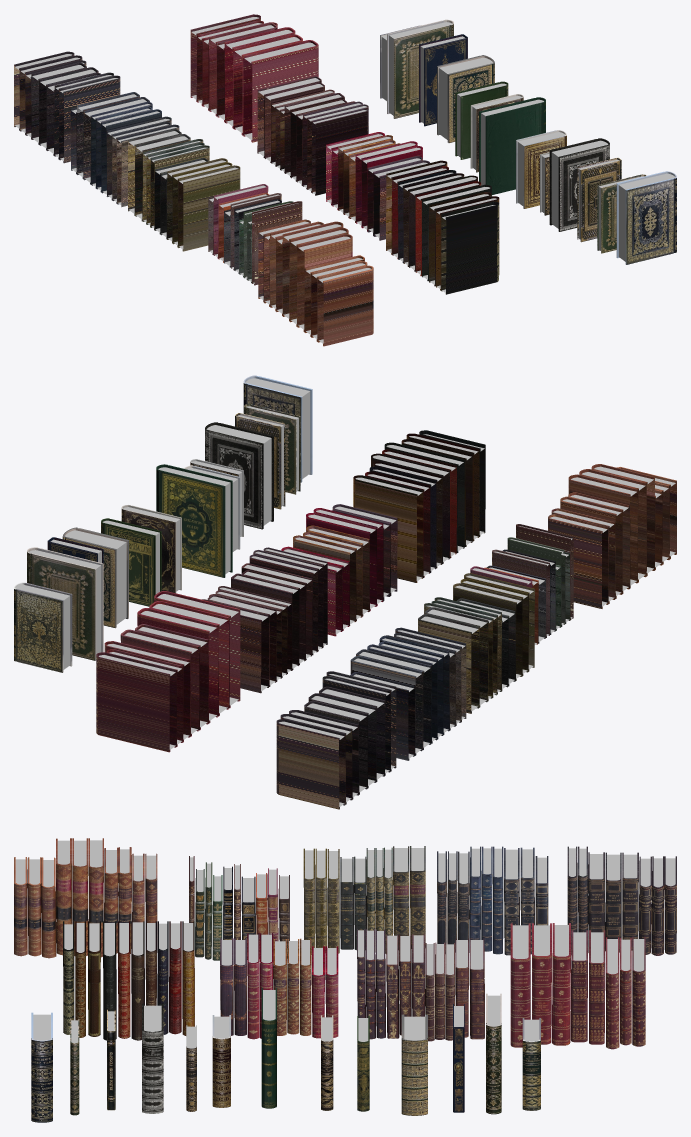
The model's file is Book_pack.fbx.
3 views of the same model, one above another, from view 1: azimuth 30°, elevation 25°; view 2: azimuth 150°, elevation 25°; view 3: azimuth 270°, elevation 25° (orthographic). The views are drawn at different scales.
Parts seen in each view (by area): view 1: Book_pack_1, Book_pack_3, Book_pack_5, Book_pack_7, Book_pack_4, Book_pack_9, Book_pack_8, Book_pack_2, Book_pack_6, Book_11, Book_9, Book_13 (+10 smaller); view 2: Book_pack_5, Book_pack_1, Book_pack_3, Book_pack_9, Book_pack_4, Book_pack_7, Book_pack_8, Book_pack_2, Book_9, Book_pack_6, Book_13, Book_12 (+10 smaller); view 3: Book_pack_5, Book_pack_1, Book_pack_3, Book_pack_4, Book_pack_7, Book_pack_2, Book_pack_8, Book_pack_9, Book_pack_6, Book_8, Book_3, Book_11 (+10 smaller).
Part boxes in pixels (x1=…): Book_pack_1: x1=386, y1=160, x2=499, y2=294; Book_pack_3: x1=258, y1=219, x2=373, y2=346; Book_pack_5: x1=190, y1=14, x2=318, y2=142; Book_pack_7: x1=128, y1=129, x2=240, y2=251; Book_pack_4: x1=257, y1=76, x2=368, y2=195; Book_pack_9: x1=14, y1=51, x2=120, y2=163; Book_pack_8: x1=70, y1=92, x2=179, y2=207; Book_pack_2: x1=326, y1=132, x2=429, y2=240; Book_pack_6: x1=208, y1=184, x2=302, y2=285; Book_11: x1=616, y1=171, x2=676, y2=264; Book_9: x1=479, y1=97, x2=545, y2=194; Book_13: x1=387, y1=19, x2=453, y2=118; Book_pack_5: x1=96, y1=591, x2=240, y2=752; Book_pack_1: x1=353, y1=430, x2=485, y2=582; Book_pack_3: x1=548, y1=464, x2=676, y2=608; Book_pack_9: x1=276, y1=671, x2=396, y2=809; Book_pack_4: x1=201, y1=547, x2=327, y2=693; Book_pack_7: x1=418, y1=573, x2=534, y2=713; Book_pack_8: x1=350, y1=627, x2=466, y2=760; Book_pack_2: x1=281, y1=504, x2=397, y2=636; Book_9: x1=156, y1=464, x2=232, y2=577; Book_pack_6: x1=470, y1=524, x2=573, y2=644; Book_13: x1=27, y1=547, x2=103, y2=660; Book_12: x1=14, y1=582, x2=72, y2=672; Book_pack_5: x1=510, y1=923, x2=645, y2=1049; Book_pack_1: x1=63, y1=921, x2=194, y2=1040; Book_pack_3: x1=14, y1=838, x2=157, y2=958; Book_pack_4: x1=357, y1=929, x2=484, y2=1041; Book_pack_7: x1=303, y1=846, x2=425, y2=954; Book_pack_2: x1=220, y1=933, x2=338, y2=1039; Book_pack_8: x1=437, y1=846, x2=548, y2=955; Book_pack_9: x1=567, y1=846, x2=676, y2=955; Book_pack_6: x1=189, y1=856, x2=289, y2=960; Book_8: x1=401, y1=1014, x2=427, y2=1115; Book_3: x1=142, y1=1003, x2=163, y2=1113; Book_11: x1=31, y1=1012, x2=52, y2=1122.
Size of the model in its own units: 139 by 29.36 by 195.
